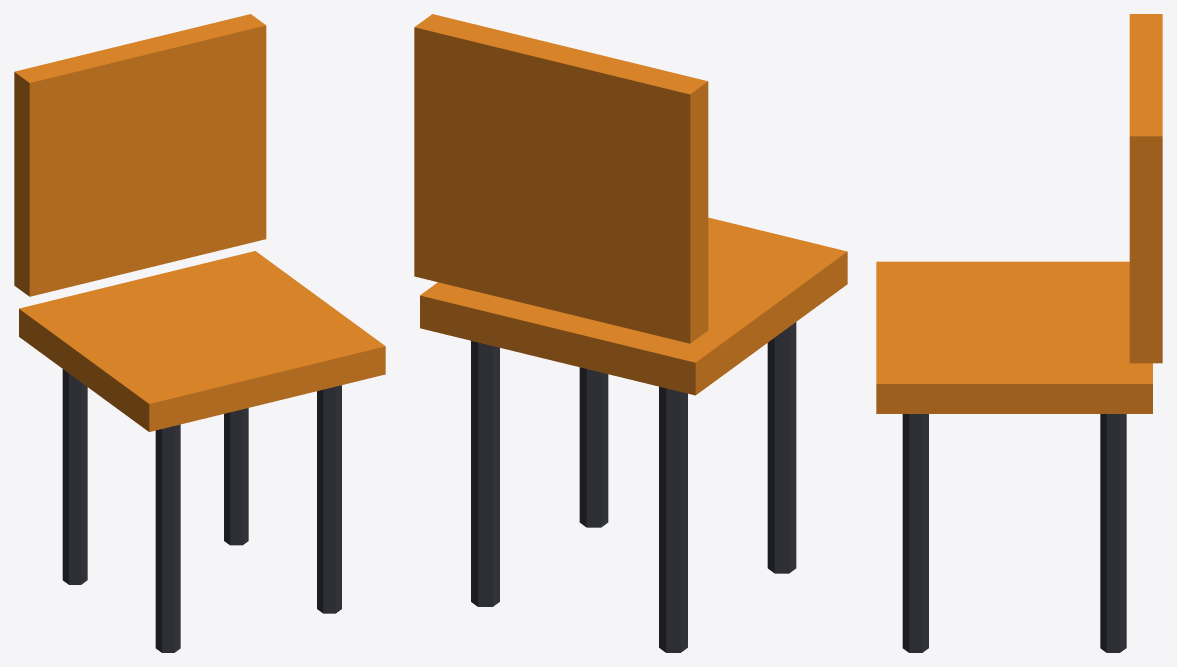
File: student_chair.glb
The picture shows the model from 3 angles, left to right: view 1: azimuth 30°, elevation 25°; view 2: azimuth 150°, elevation 25°; view 3: azimuth 270°, elevation 25°; orthographic projection. The views are drawn at different scales.
Visible parts, largest first — view 1: student_chair; view 2: student_chair; view 3: student_chair.
Boxes of the visible parts, <box> form: student_chair: <box>14,14,385,652</box>; student_chair: <box>414,14,847,652</box>; student_chair: <box>876,14,1162,652</box>.
Bounding box in the file's own units: 0.44 × 0.89 × 0.435.
